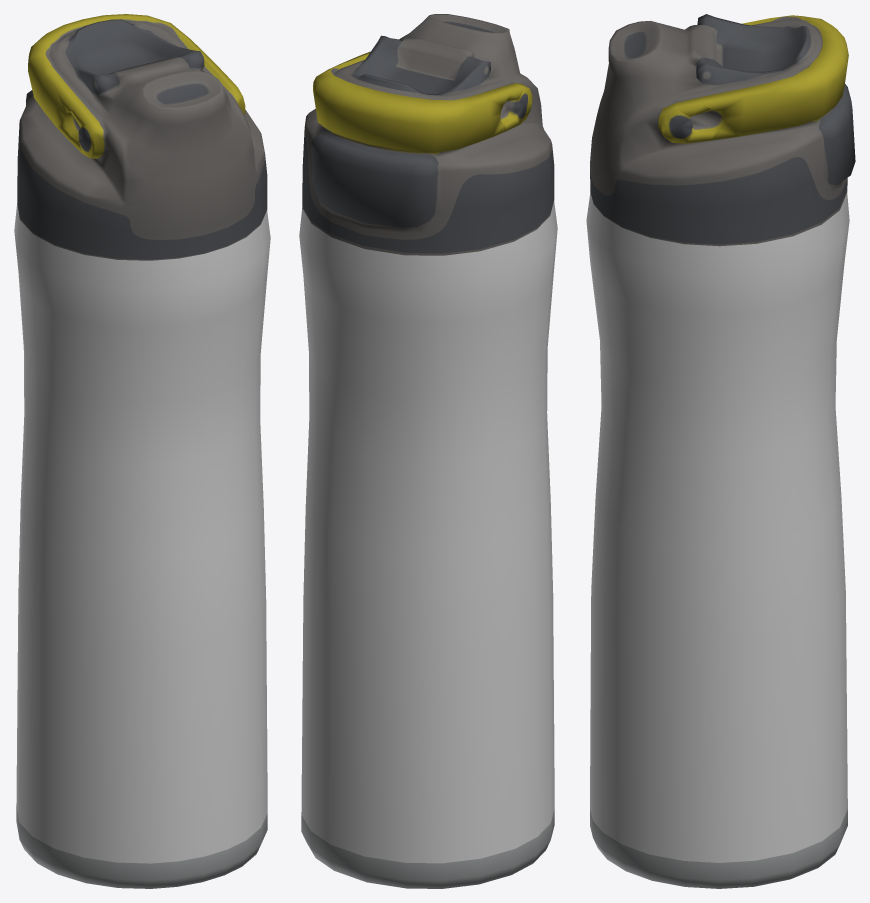
The model's file is thermos.glb.
3 renders of one model, left to right at view 1: azimuth 30°, elevation 25°; view 2: azimuth 150°, elevation 25°; view 3: azimuth 270°, elevation 25°, orthographic. The views are drawn at different scales.
Parts seen in each view (by area): view 1: cup_low; view 2: cup_low; view 3: cup_low.
Boxes of the visible parts, x1,y1,x2,y2 form: cup_low: [14, 14, 270, 888]; cup_low: [299, 14, 557, 888]; cup_low: [586, 14, 855, 888].
Size of the model in its own units: 0.1812 by 0.6128 by 0.1853.
Materials: 2 (1 with a texture image).
